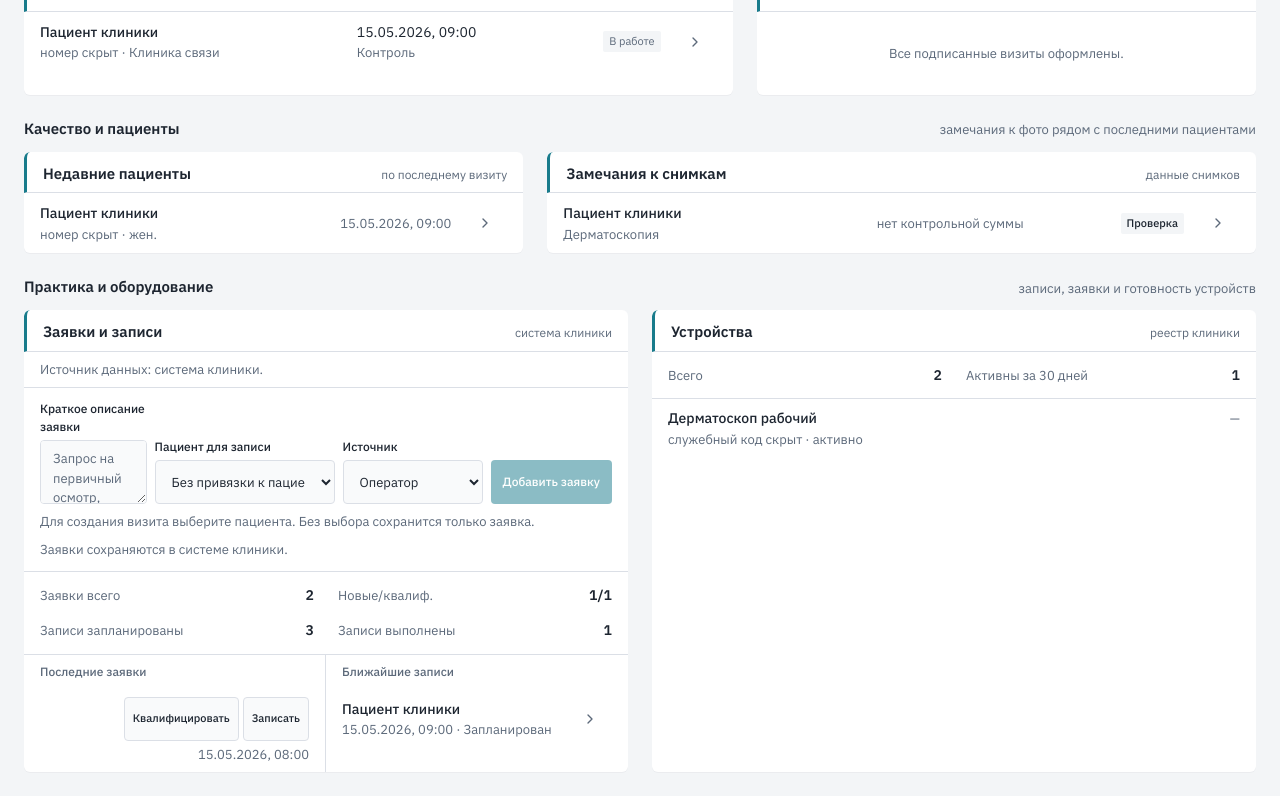
Test case: DeskPage · Stage 5I production dashboard › loads production dashboard from self-hosted backend without mock fallback
The width and height of the screenshot is (1280, 796).
Later steps or results of the test are not shown.
(page scrolled)
Expected: the heading "Качество и пациенты" is shown, [24,119,180,140]
Expected: the heading "Практика и оборудование" is shown, [24,277,213,298]
Step 1. Select "Пациент клиники · номер скрыт" in the dropdown labelled "Пациент для записи" → [245, 482], box [155,460,335,504]
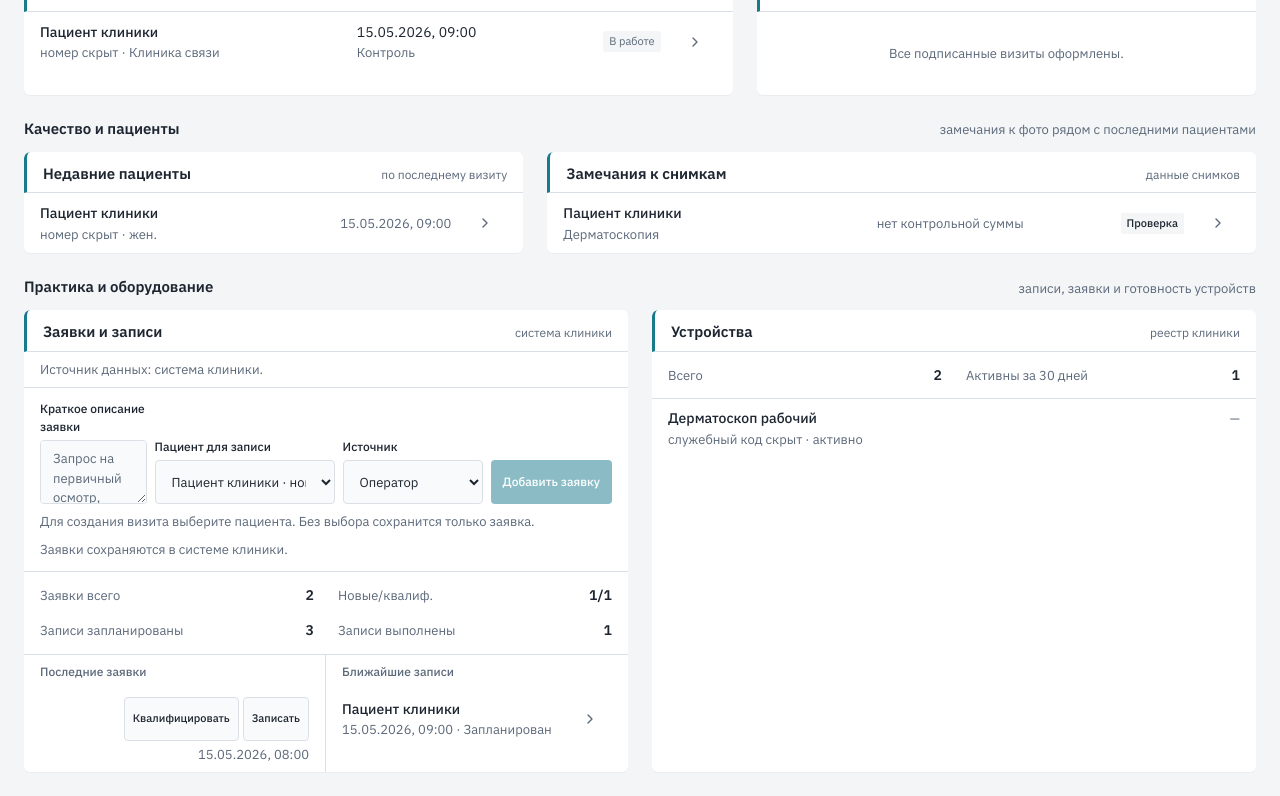
Step 2. Type "Новая заявка из системы клиники" into the text box labelled "Краткое описание заявки" → [93, 472], box [40,440,147,504]
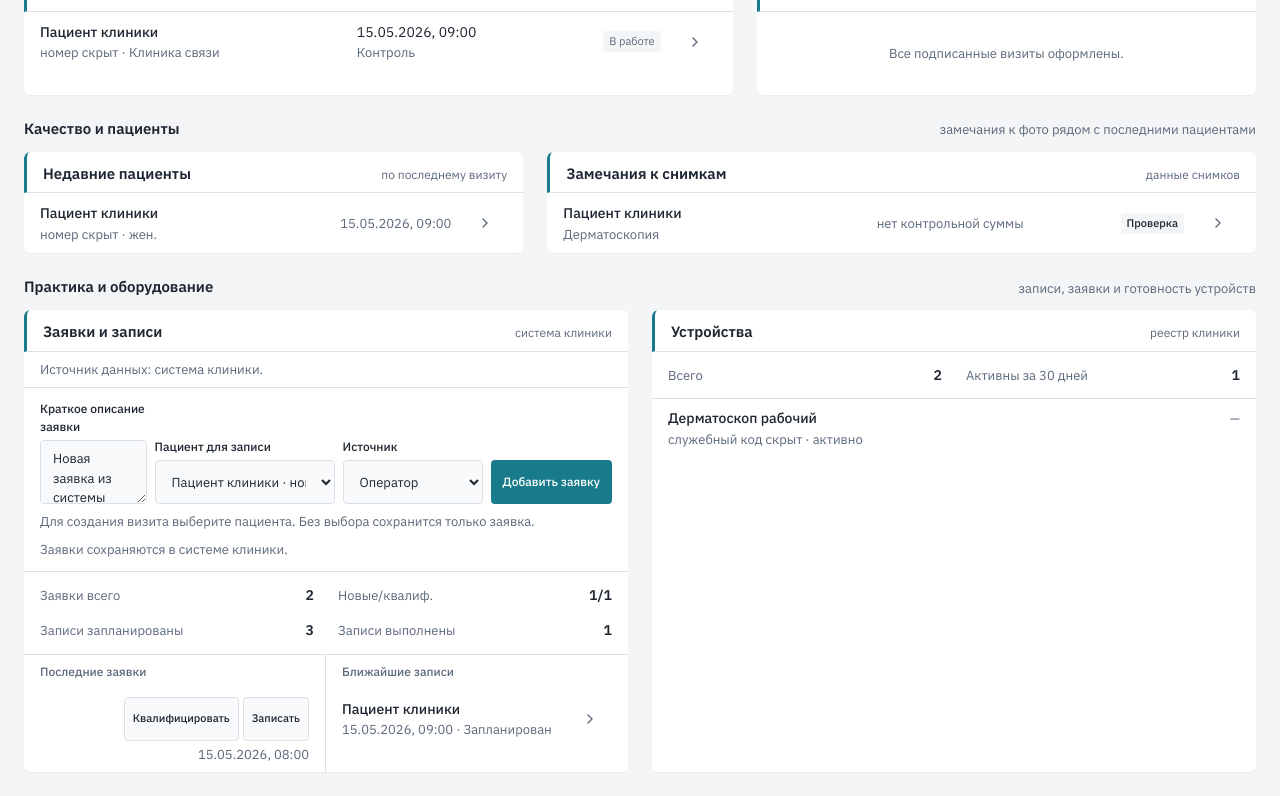
Step 3. Click the button "Добавить заявку" → [551, 482], box [491,460,612,504]
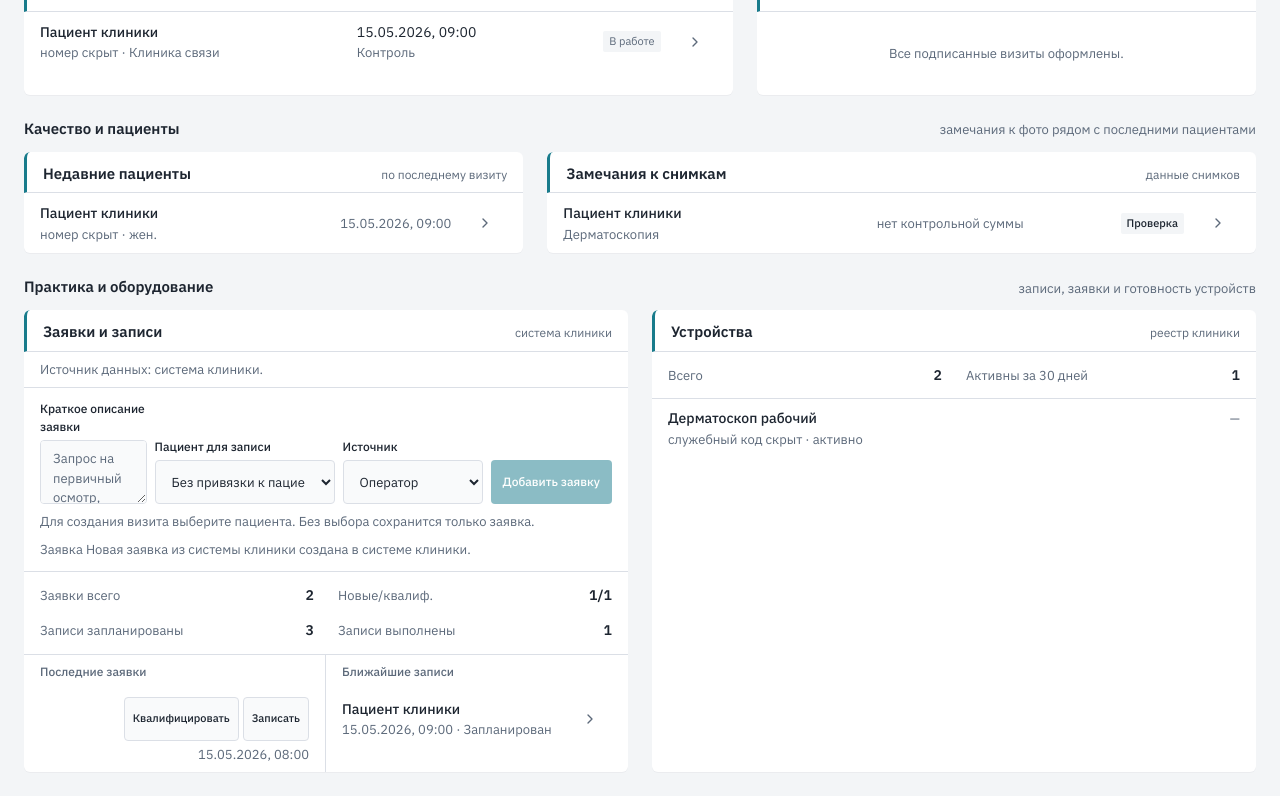
Now the text "Заявка Новая заявка из системы клиники создана в системе клиники." is shown, box [40,541,471,558]
